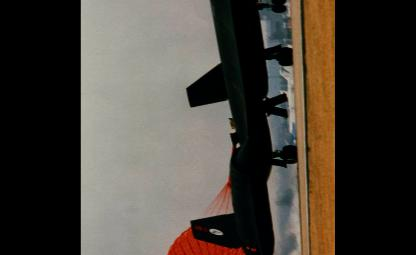Rafale: (185, 0, 299, 254)
